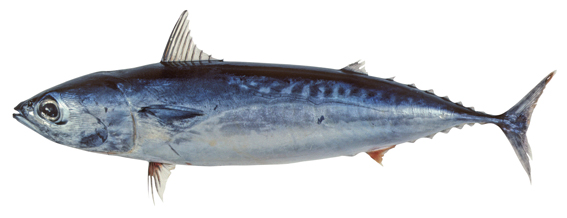fish: (14, 10, 557, 207)
